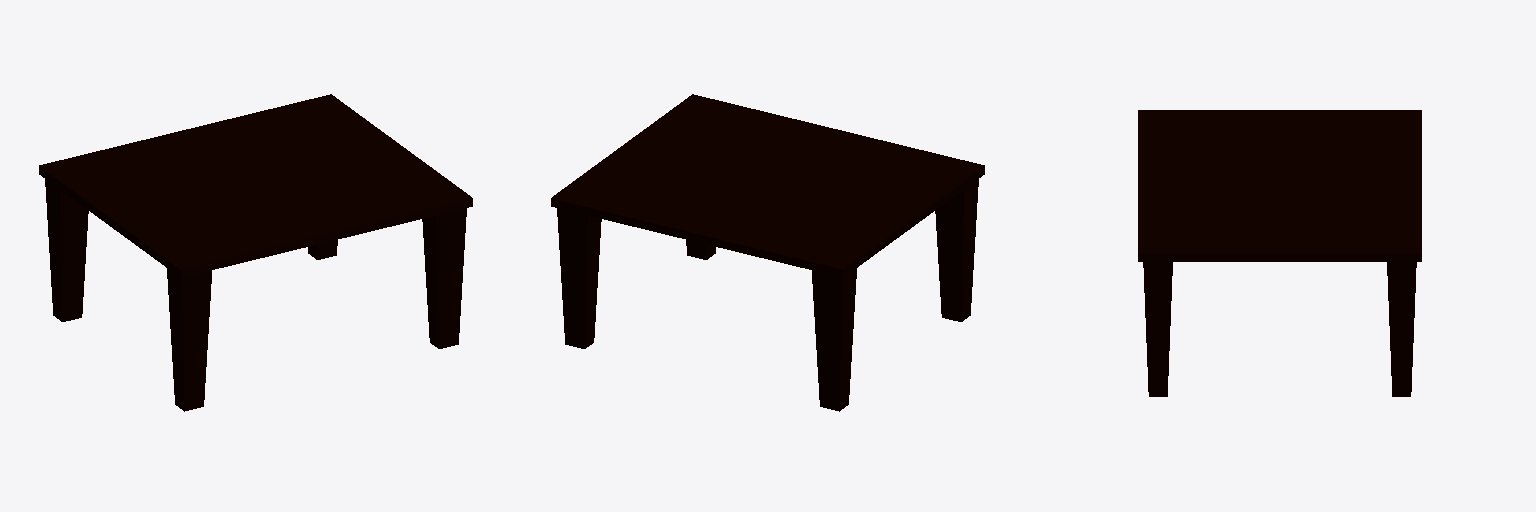
The model's file is Desk.obj.
The picture shows the model from 3 angles: view 1: azimuth 30°, elevation 25°; view 2: azimuth 150°, elevation 25°; view 3: azimuth 270°, elevation 25°; orthographic projection.
Parts seen in each view (by area): view 1: Cube; view 2: Cube; view 3: Cube.
Part boxes in pixels (bbox=[...]): Cube: bbox=[39, 94, 472, 411]; Cube: bbox=[551, 94, 984, 411]; Cube: bbox=[1138, 110, 1421, 396].
Bounding box in the file's own units: 4.68 × 2.26 × 3.94.